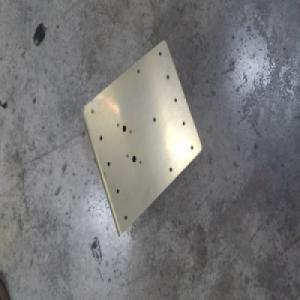MetalSheet: (78, 37, 202, 239)
